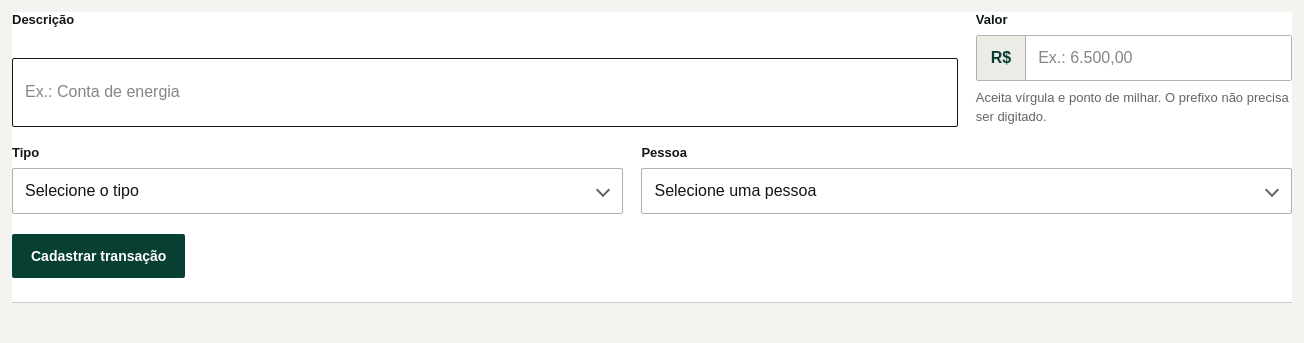
Test: TransactionForm › rejeita o formato de valor R$ 500,00
The image size is (1304, 343).
Type "Lançamento residencial" into the field labelled "Descrição" at (485, 92), box [12,58,958,127]
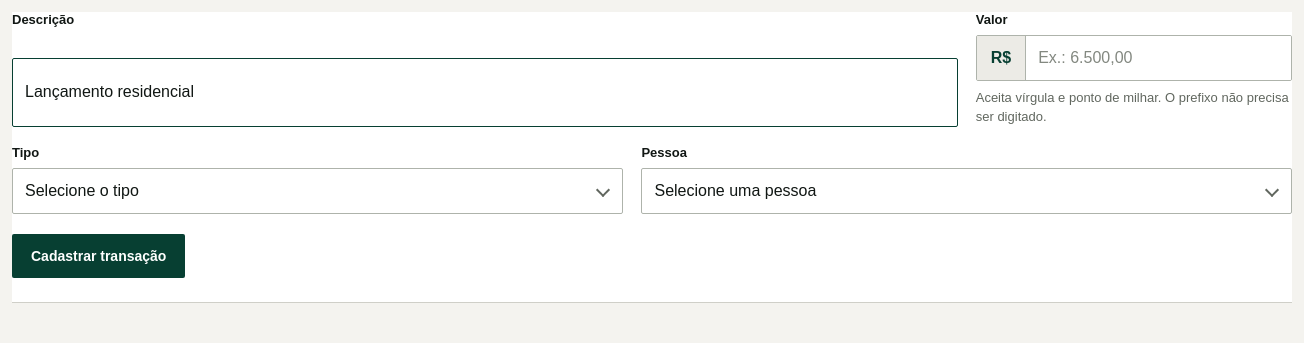
Type "R$ 500,00" into the field labelled "Valor" at (1159, 58), box [1026,36,1291,80]
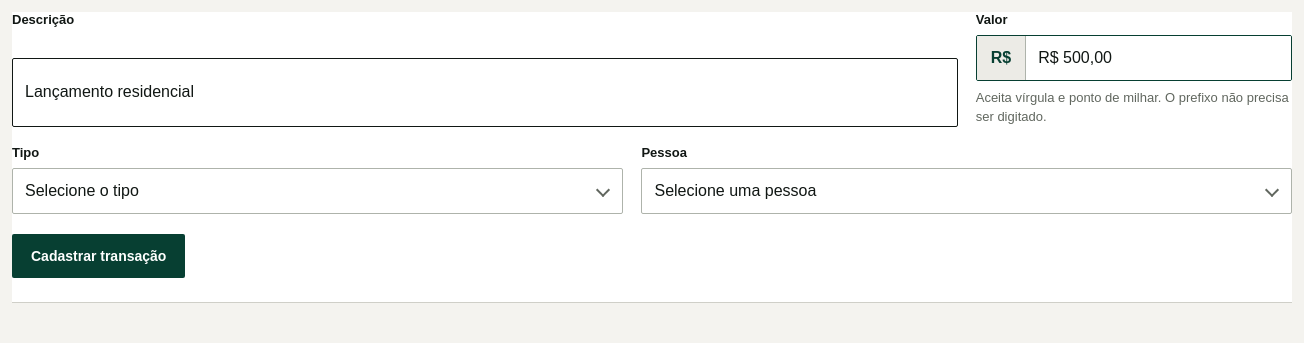
Select "Mariana Freitas - 28 anos" in the dropdown labelled "Pessoa" at (967, 191), box [642,168,1292,214]
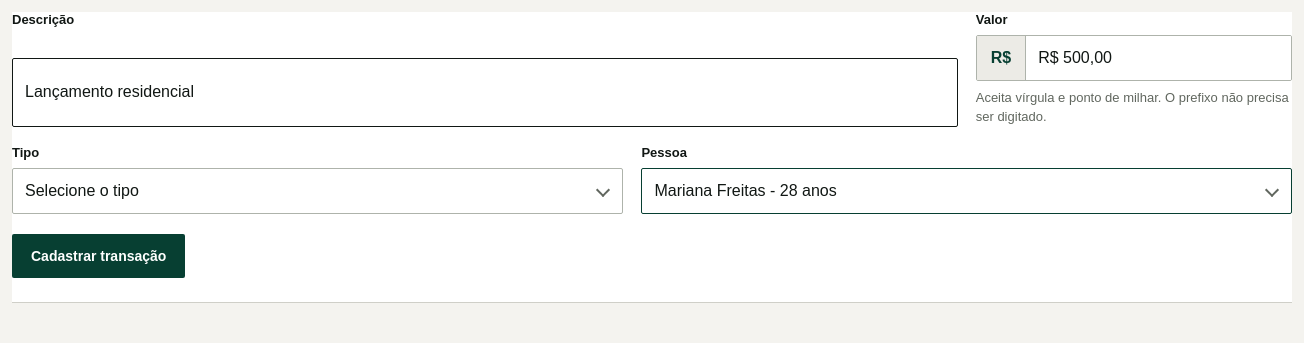
Select "Despesa" in the dropdown labelled "Tipo" at (318, 191), box [12,168,624,214]
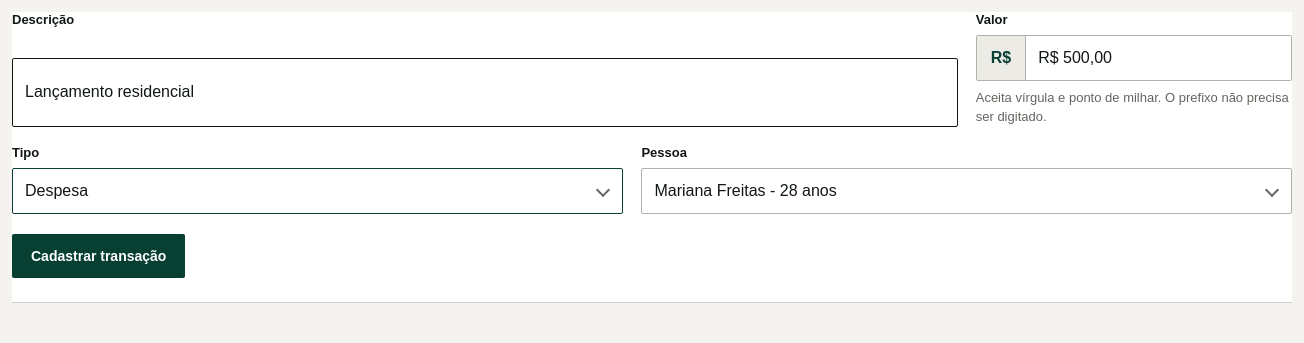
Click the button "Cadastrar transação" at (99, 256), box [12,234,185,278]
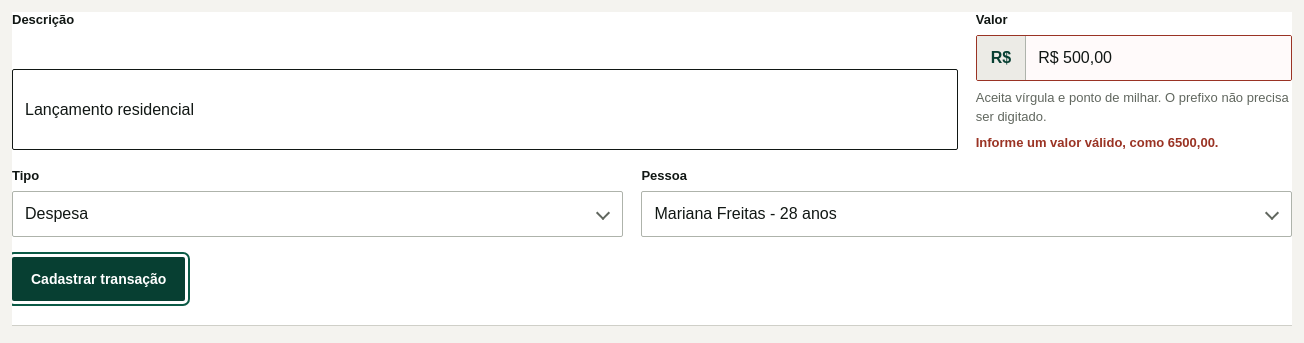
Expected: the text "Informe um valor válido, como 6500,00." is shown, [976,135,1218,150]
